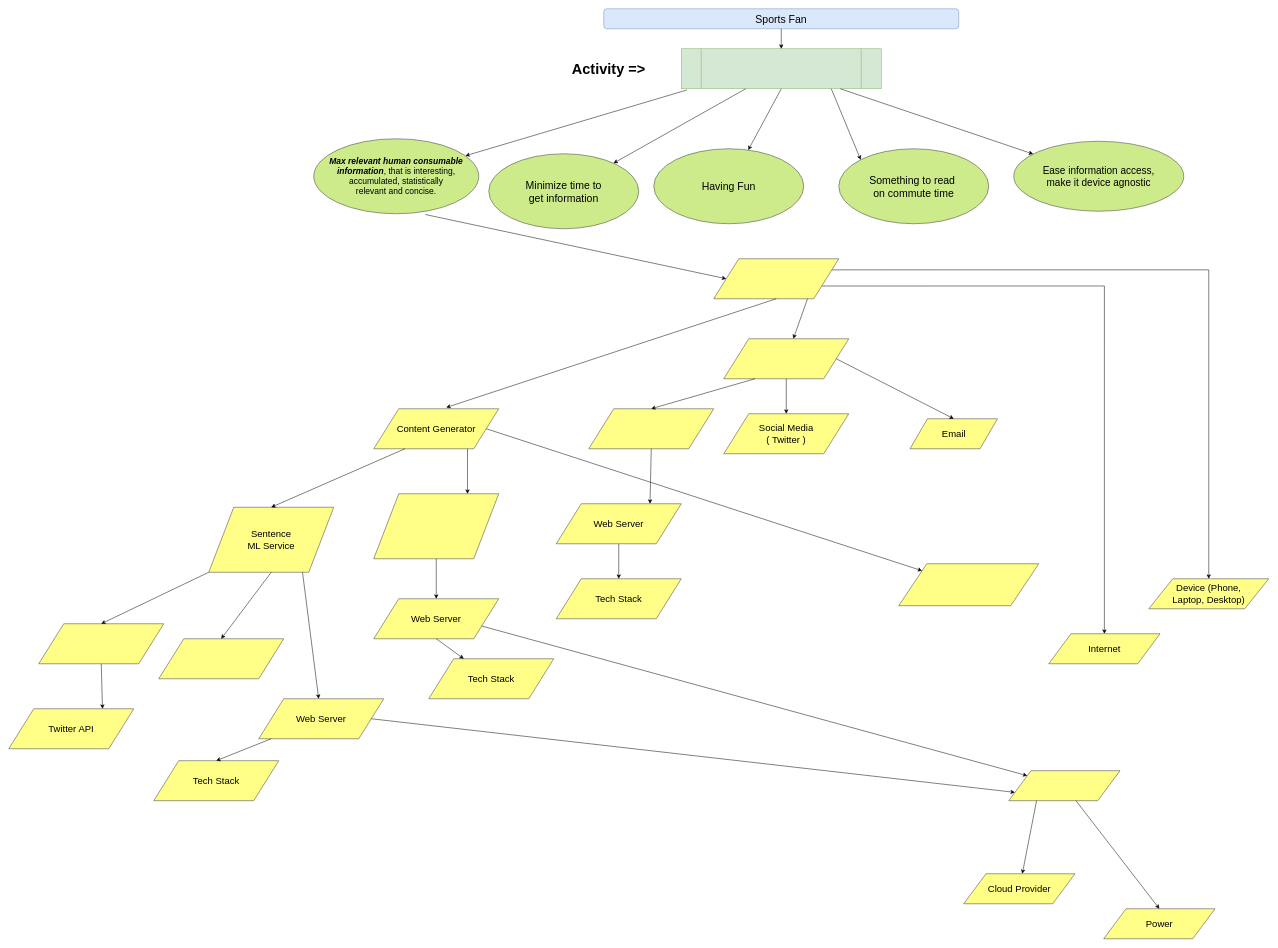
Some shapes in this 1278 by 948 pixel diagram are drawn without their labels. The centre of each missing label's shape, as x and y in pixels:
Chart Service: point (436, 526)
Compute: point (1064, 785)
Content: point (776, 278)
Data feeding api (nba.com): point (968, 584)
Internet Broadcast: point (786, 358)
ML Alghoritham: point (221, 658)
Track past games scores and stats: point (781, 68)
Twitter Trending Bot: point (101, 643)
Web app (getdailyscore.com): point (651, 428)
